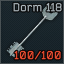Dorm room 118 key: (0, 0, 64, 64)
